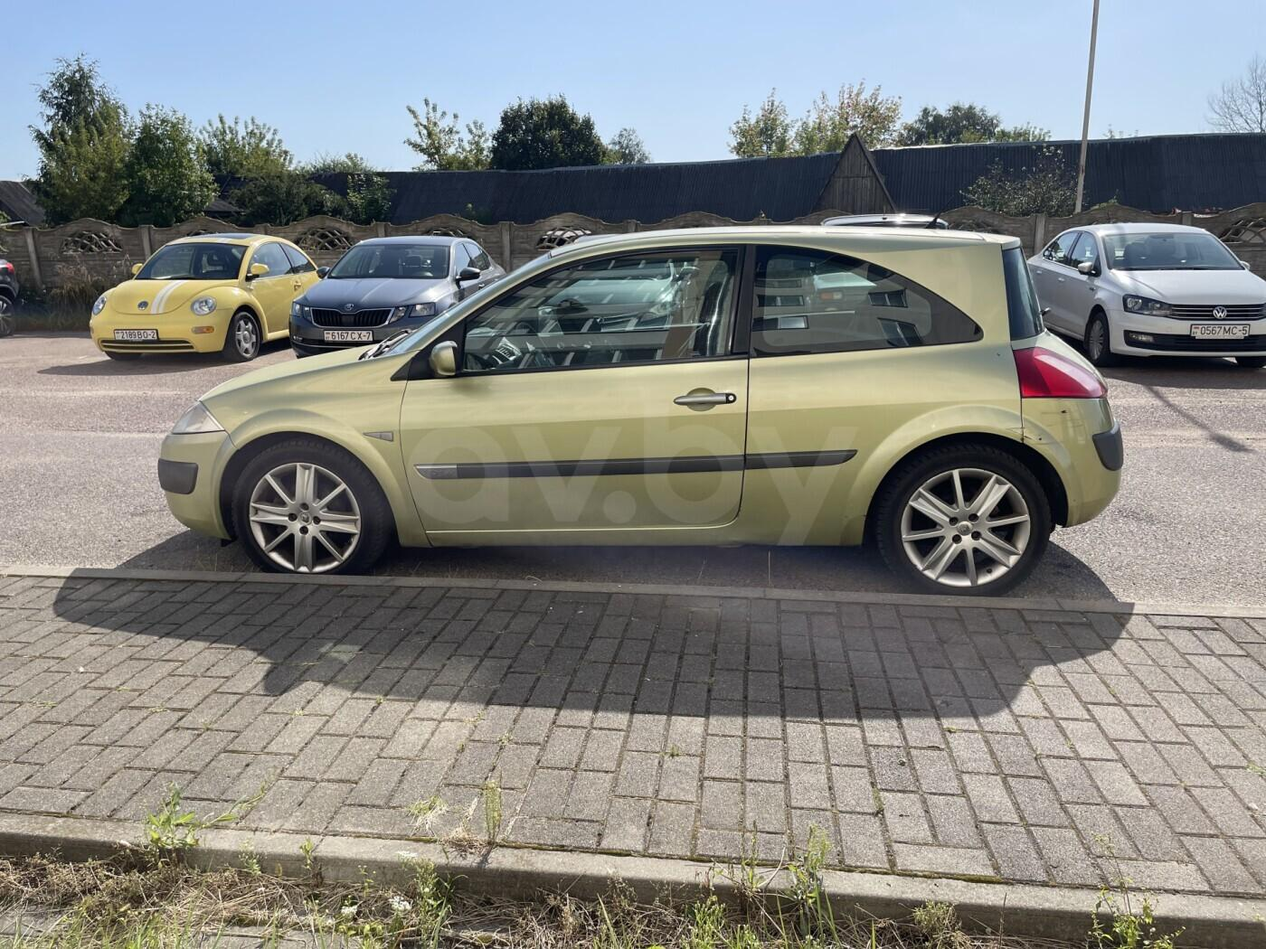Megane_2002-2006: (156, 222, 1121, 626)
